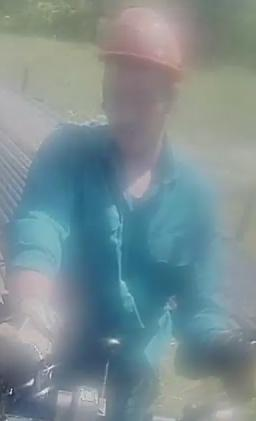gloves: (0, 289, 59, 381), (200, 321, 256, 398)
helmet: (91, 3, 186, 84)
vest: (37, 125, 194, 366)
